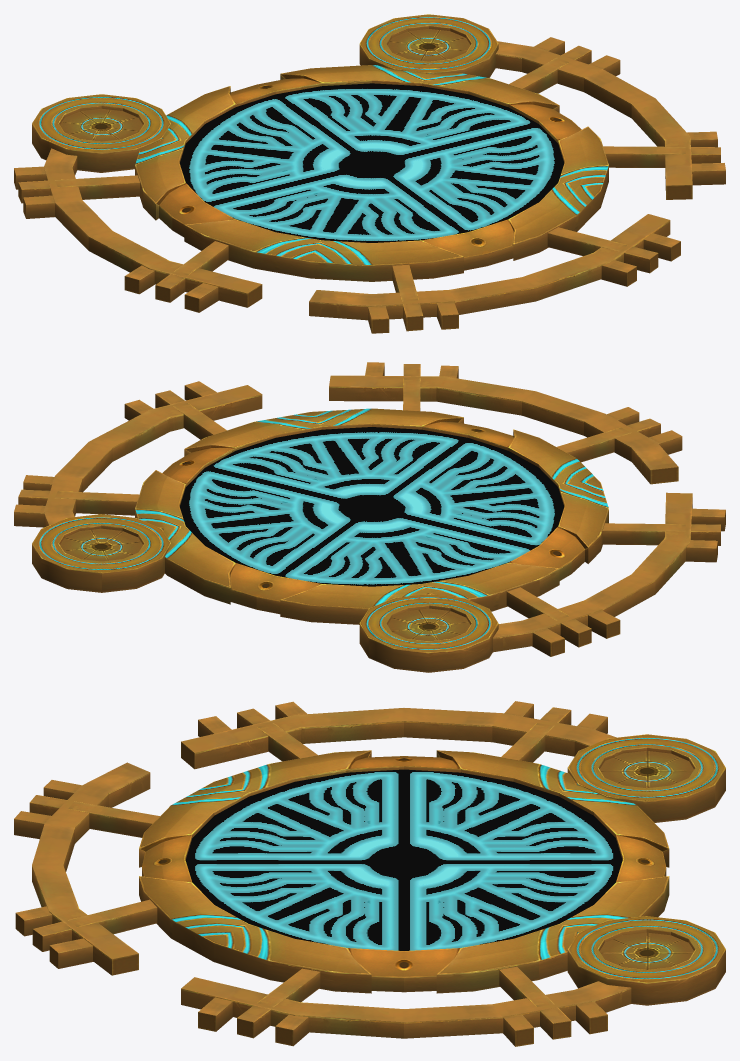
Rendered from Battle03_Plane_02.FBX.
The picture shows the model from 3 angles, top to bottom: view 1: azimuth 30°, elevation 25°; view 2: azimuth 150°, elevation 25°; view 3: azimuth 270°, elevation 25°; orthographic projection. The views are drawn at different scales.
Visible parts, largest first — view 1: Battle03_Plane_02_01, Battle03_Plane_02_02; view 2: Battle03_Plane_02_01, Battle03_Plane_02_02; view 3: Battle03_Plane_02_01, Battle03_Plane_02_02.
Part boxes in pixels (left/top/right/bottom): Battle03_Plane_02_01: left=14, top=14, right=725, bottom=333; Battle03_Plane_02_02: left=179, top=83, right=564, bottom=242; Battle03_Plane_02_01: left=14, top=362, right=725, bottom=672; Battle03_Plane_02_02: left=179, top=427, right=564, bottom=586; Battle03_Plane_02_01: left=14, top=701, right=725, bottom=1046; Battle03_Plane_02_02: left=185, top=769, right=622, bottom=950.
Size of the model in its own units: 13.71 by 0.4571 by 12.51.
